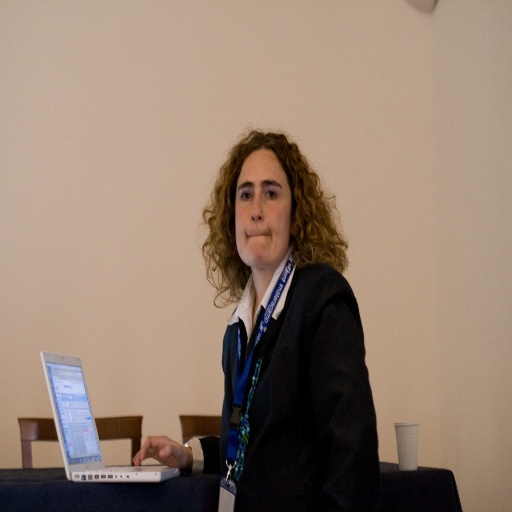hand: (124, 423, 211, 480)
